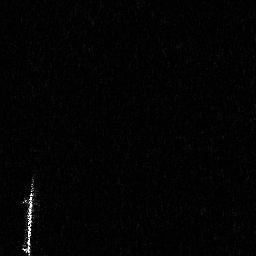ship: (18, 173, 39, 256)
